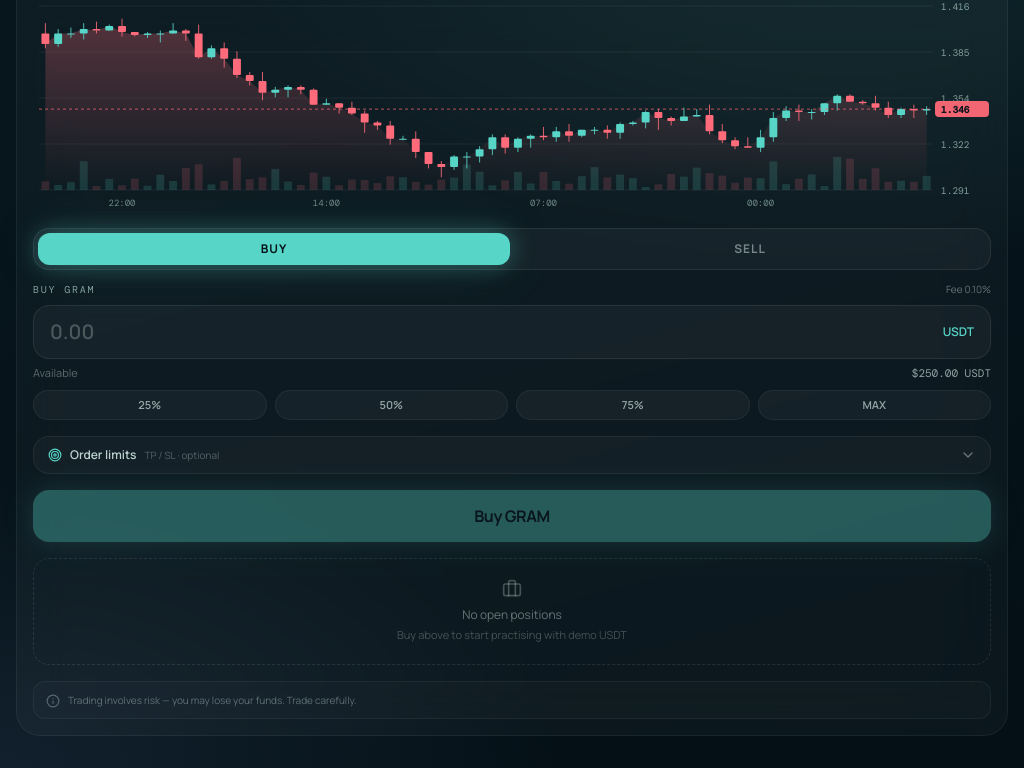
it: Trade page › fills the order from the MAX preset using the available balance
(page scrolled)
expect the element with test id "trade-available-balance" shows "$250.00": met, box [912, 366, 958, 380]
Click the button with test id "trade-preset-100": (874, 405) [758, 390, 991, 420]
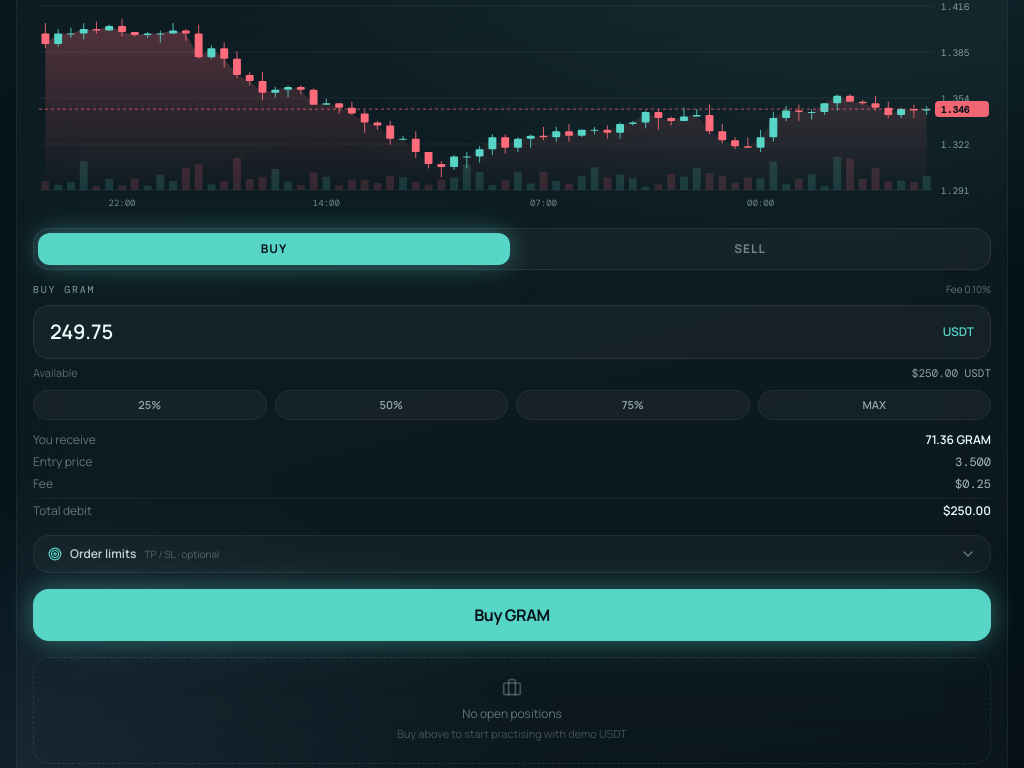
Click the button with test id "trade-buy-submit": (512, 615) [33, 589, 991, 641]
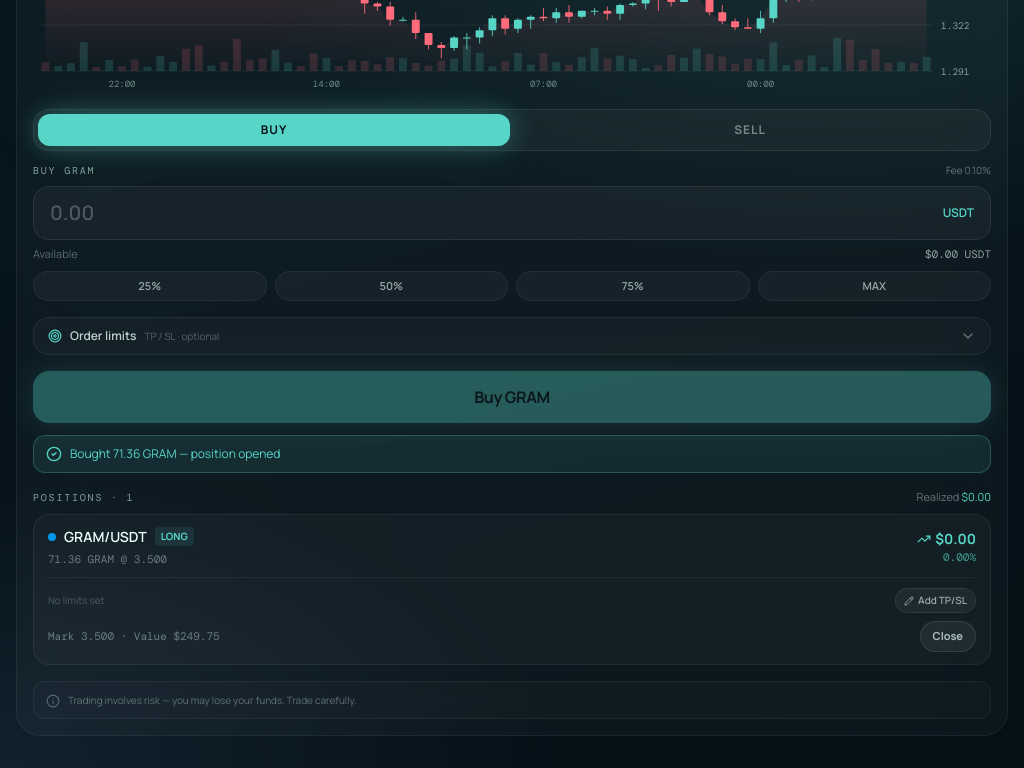
expect the element with test id "position-TONUSDT" is shown: met, box [33, 514, 991, 664]
